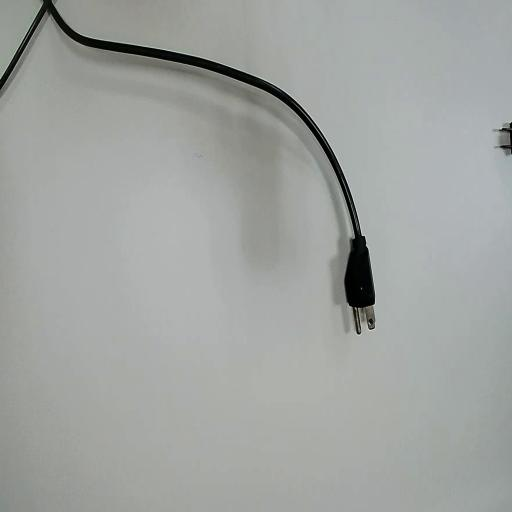wire: (0, 0, 373, 315)
